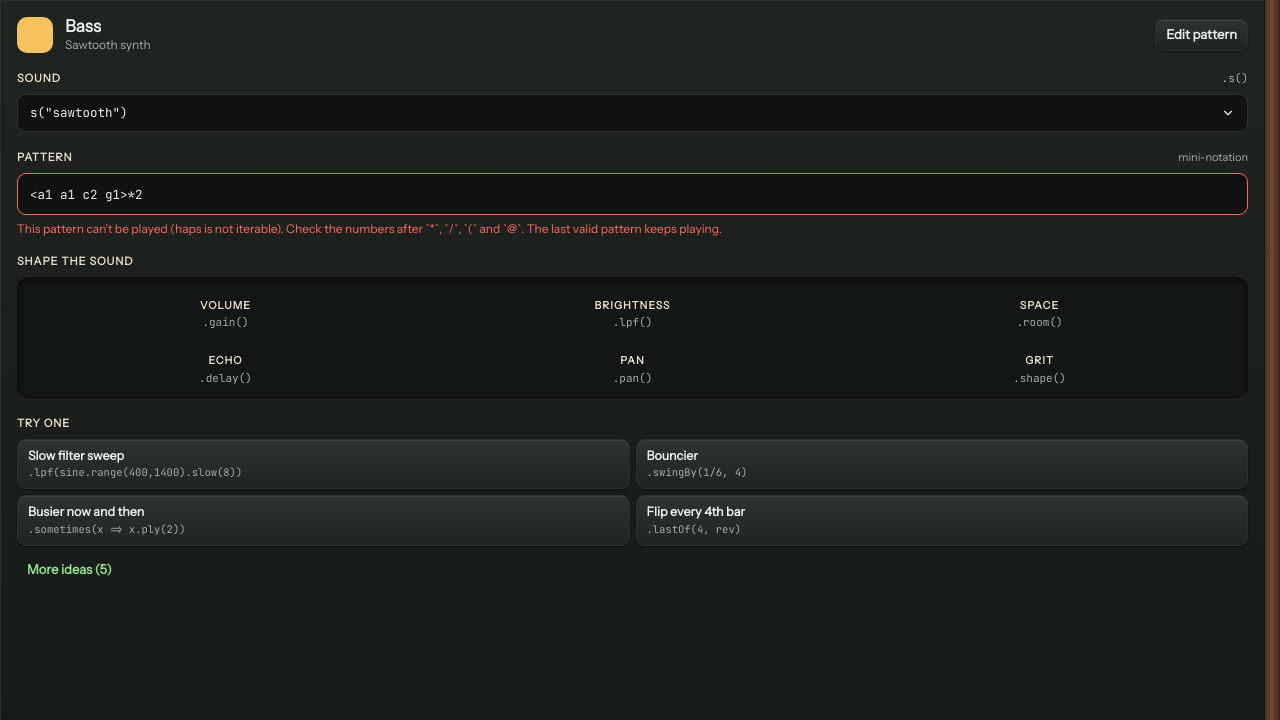
Inspector › should not commit a pattern that parses but can't be played
Replace the text in the field labelled "Pattern" with "c2*lm" at (632, 194), box [30, 174, 1235, 214]
Then press Enter
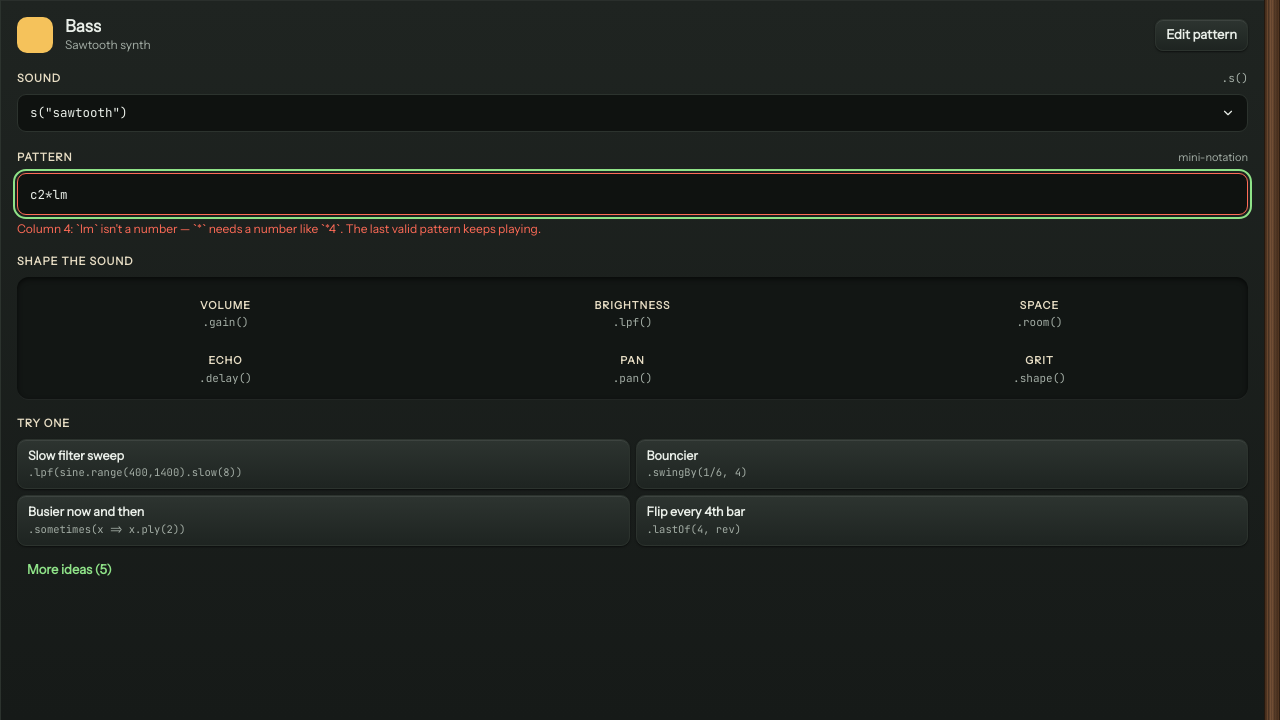
Now the text "`lm` isn't a number" is shown, box [17, 221, 541, 236]
